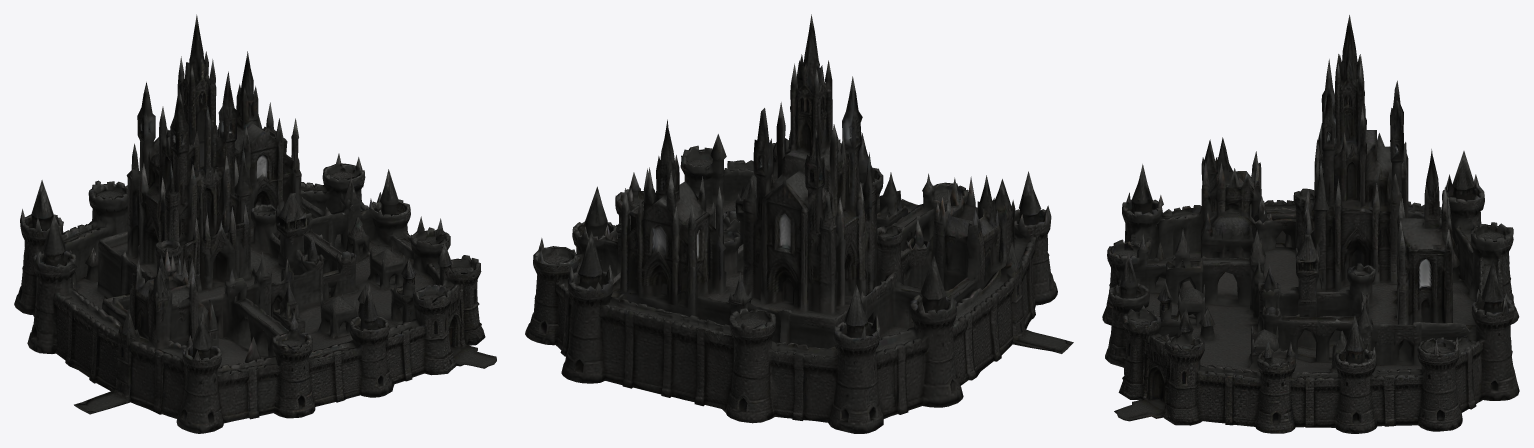
Rendered from undead-5.glb.
The picture shows the model from 3 angles, left to right: view 1: azimuth 30°, elevation 25°; view 2: azimuth 150°, elevation 25°; view 3: azimuth 270°, elevation 25°; orthographic projection. The views are drawn at different scales.
Parts seen in each view (by area): view 1: tripo_node_25f90d2f-771a-4fc8-9a71-639fcd853db2; view 2: tripo_node_25f90d2f-771a-4fc8-9a71-639fcd853db2; view 3: tripo_node_25f90d2f-771a-4fc8-9a71-639fcd853db2.
Boxes of the visible parts, x1=… form: tripo_node_25f90d2f-771a-4fc8-9a71-639fcd853db2: x1=14, y1=14, x2=496, y2=433; tripo_node_25f90d2f-771a-4fc8-9a71-639fcd853db2: x1=525, y1=14, x2=1073, y2=433; tripo_node_25f90d2f-771a-4fc8-9a71-639fcd853db2: x1=1102, y1=15, x2=1519, y2=433.
Bounding box in the file's own units: 1 × 0.753 × 0.9033.
1 material, 1 textured.
